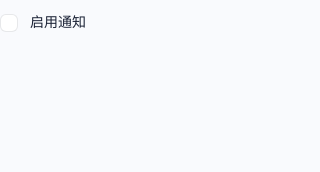
it: shared form and feedback controls › uses a custom checkbox visual while preserving native semantics
Click the checkbox labelled "启用通知": x=43, y=22 x1=0 y1=13 x2=86 y2=32
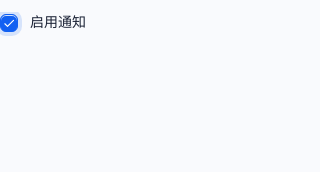
Result: the checkbox labelled "启用通知" is checked at x1=0 y1=13 x2=86 y2=32
